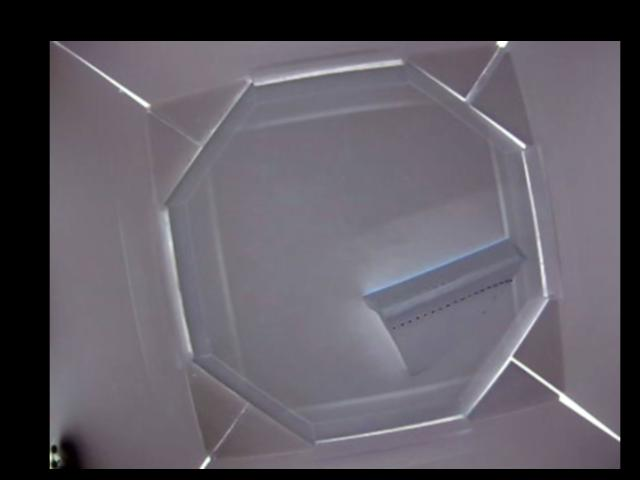China: (359, 238, 526, 371)
